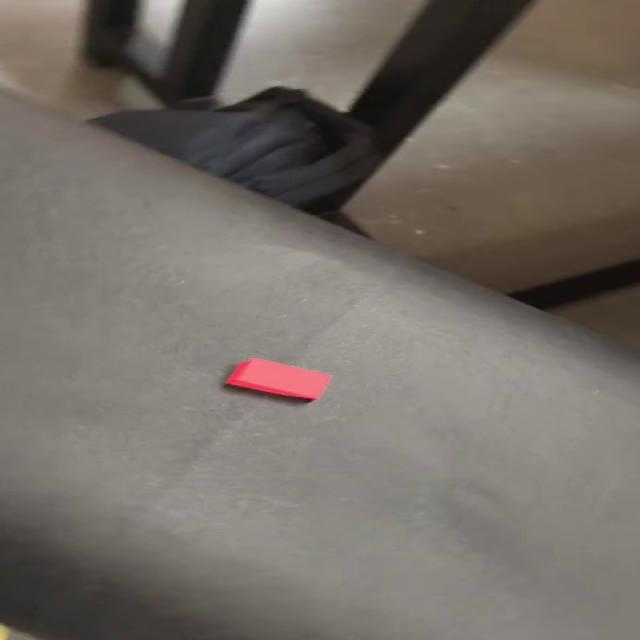red block: (223, 357, 332, 402)
